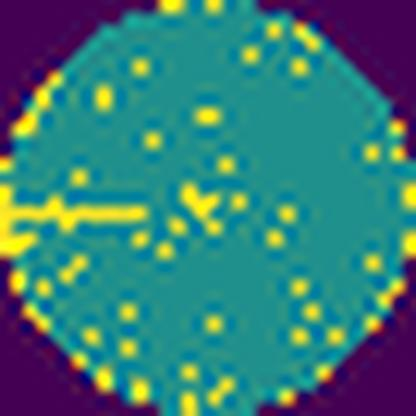Scratch: (0, 174, 155, 267)
